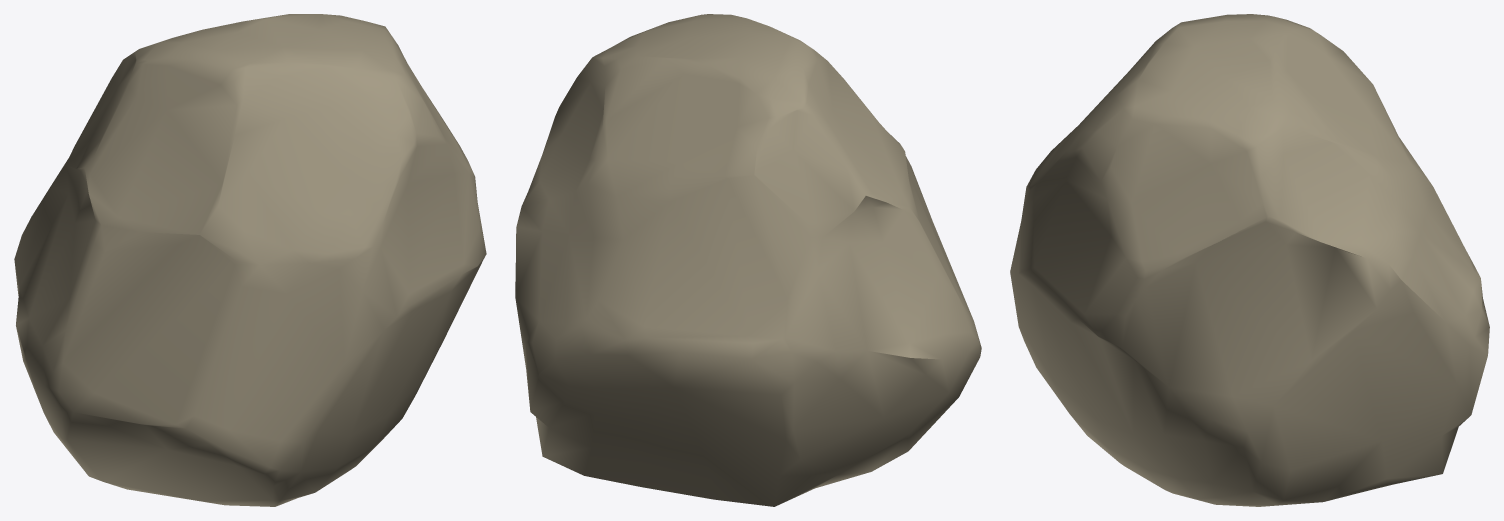
File: Rock-6cytS1cPiL.glb
3 views of the same model, side by side, from view 1: azimuth 30°, elevation 25°; view 2: azimuth 150°, elevation 25°; view 3: azimuth 270°, elevation 25° (orthographic). The views are drawn at different scales.
Visible parts, largest first — view 1: Environment_Rock_4; view 2: Environment_Rock_4; view 3: Environment_Rock_4.
Part boxes in pixels (x1,y1,x2,y2): Environment_Rock_4: (14,14,486,506); Environment_Rock_4: (515,14,981,506); Environment_Rock_4: (1010,14,1489,506).
Size of the model in its own units: 0.7628 by 0.7114 by 0.746.
Materials: 1 (1 with a texture image).
